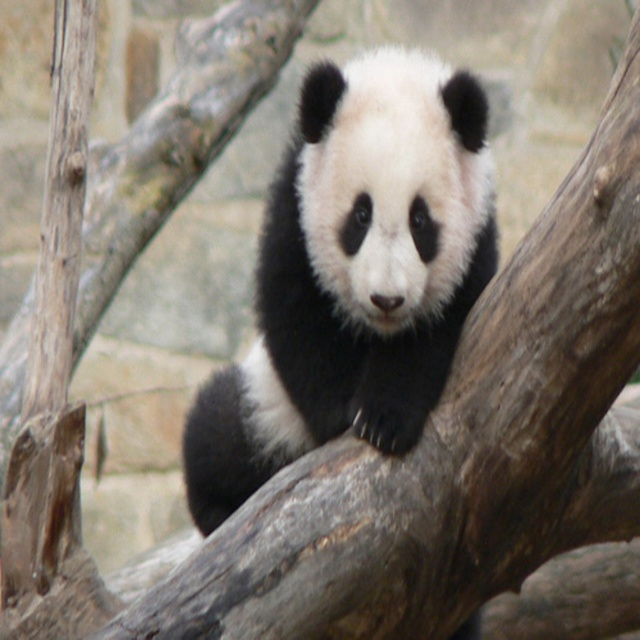Panda: (180, 42, 499, 539)
